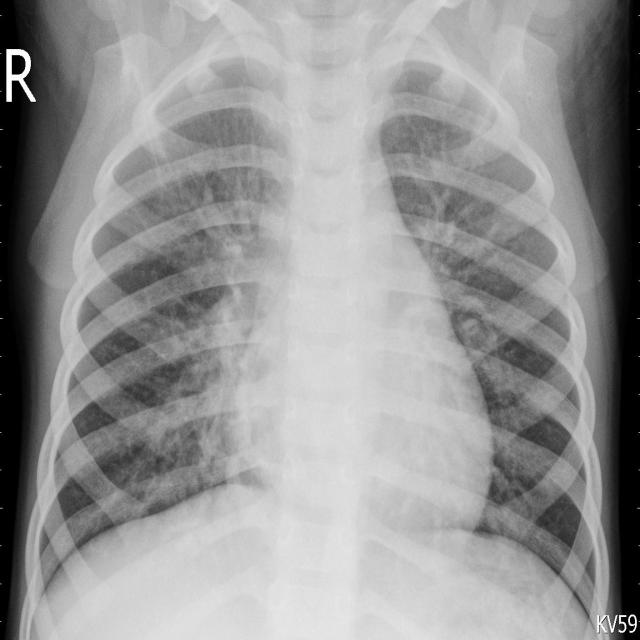low-pneumonia: (144, 205, 262, 508), (412, 157, 519, 386)
